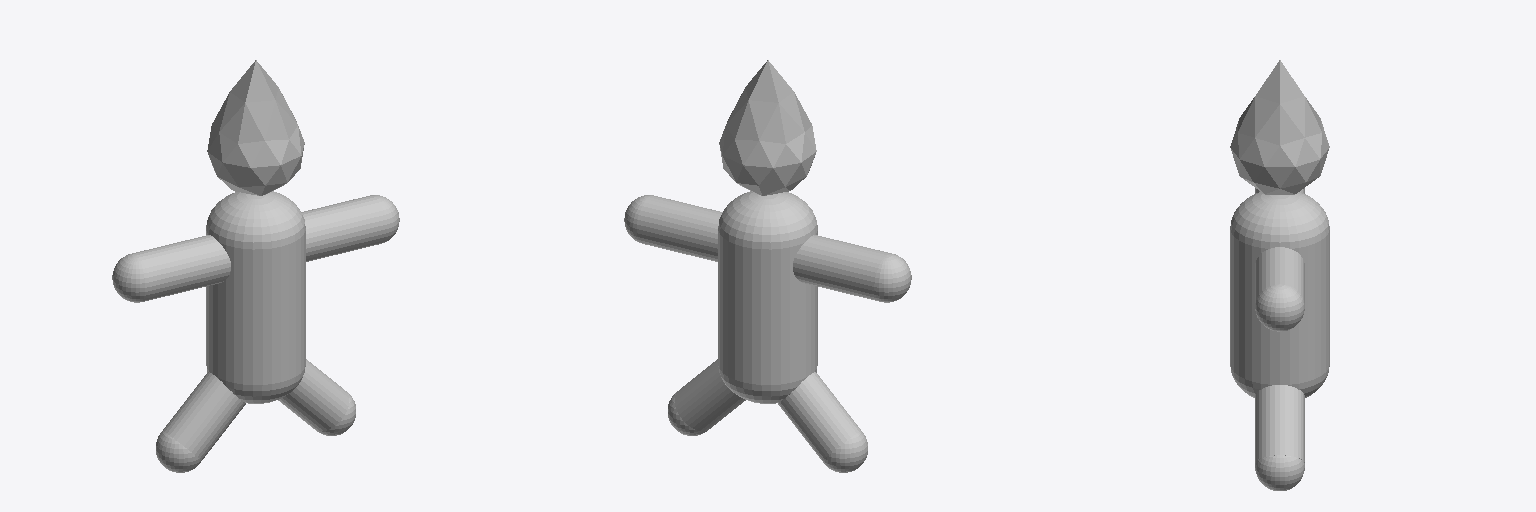
File: thescientist.obj
3 renders of one model, left to right at view 1: azimuth 30°, elevation 25°; view 2: azimuth 150°, elevation 25°; view 3: azimuth 270°, elevation 25°, orthographic.
Parts seen in each view (by area): view 1: Body_Sphere.002, Icosphere, Icosphere.001, Cylinder, Cylinder.001, Cylinder.003, Cylinder.002, Sphere.002_Sphere.008, Sphere.003_Sphere.009, Sphere.001_Sphere.003; view 2: Body_Sphere.002, Icosphere, Icosphere.001, Cylinder, Cylinder.001, Cylinder.003, Cylinder.002, Sphere.002_Sphere.008, Sphere.003_Sphere.009, Sphere.001_Sphere.003; view 3: Body_Sphere.002, Icosphere, Icosphere.001, Cylinder.002, Cylinder.001, Sphere.001_Sphere.003, Sphere.
Boxes of the visible parts, <box> form: Body_Sphere.002: <box>206,191,305,403</box>; Icosphere: <box>207,126,304,195</box>; Icosphere.001: <box>212,60,297,143</box>; Cylinder: <box>133,235,230,301</box>; Cylinder.001: <box>301,196,386,261</box>; Cylinder.003: <box>163,372,245,460</box>; Cylinder.002: <box>278,359,348,430</box>; Sphere.002_Sphere.008: <box>112,253,149,302</box>; Sphere.003_Sphere.009: <box>156,431,200,472</box>; Sphere.001_Sphere.003: <box>370,195,399,242</box>; Body_Sphere.002: <box>718,191,817,403</box>; Icosphere: <box>719,126,816,195</box>; Icosphere.001: <box>726,60,811,143</box>; Cylinder: <box>793,235,890,301</box>; Cylinder.001: <box>637,196,722,261</box>; Cylinder.003: <box>778,372,860,460</box>; Cylinder.002: <box>675,359,745,430</box>; Sphere.002_Sphere.008: <box>874,253,911,302</box>; Sphere.003_Sphere.009: <box>823,431,867,472</box>; Sphere.001_Sphere.003: <box>624,195,653,242</box>; Body_Sphere.002: <box>1230,192,1329,397</box>; Icosphere: <box>1230,118,1329,194</box>; Icosphere.001: <box>1238,60,1321,145</box>; Cylinder.002: <box>1255,385,1304,462</box>; Cylinder.001: <box>1255,247,1304,302</box>; Sphere.001_Sphere.003: <box>1255,284,1304,331</box>; Sphere: <box>1255,455,1304,490</box>.
Bounding box in the file's own units: 6.5 × 8.68 × 2.